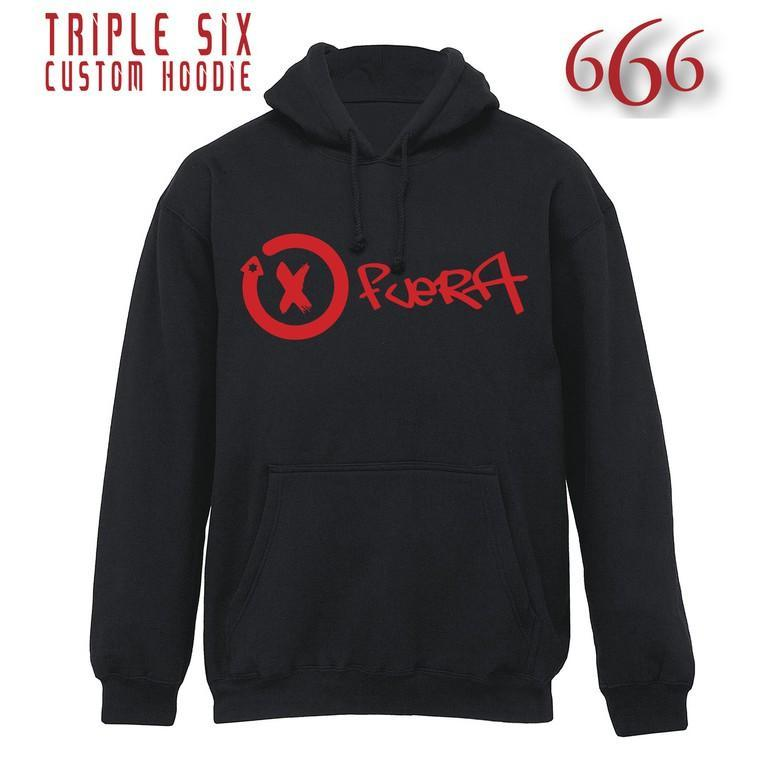sweater: (87, 22, 715, 756)
